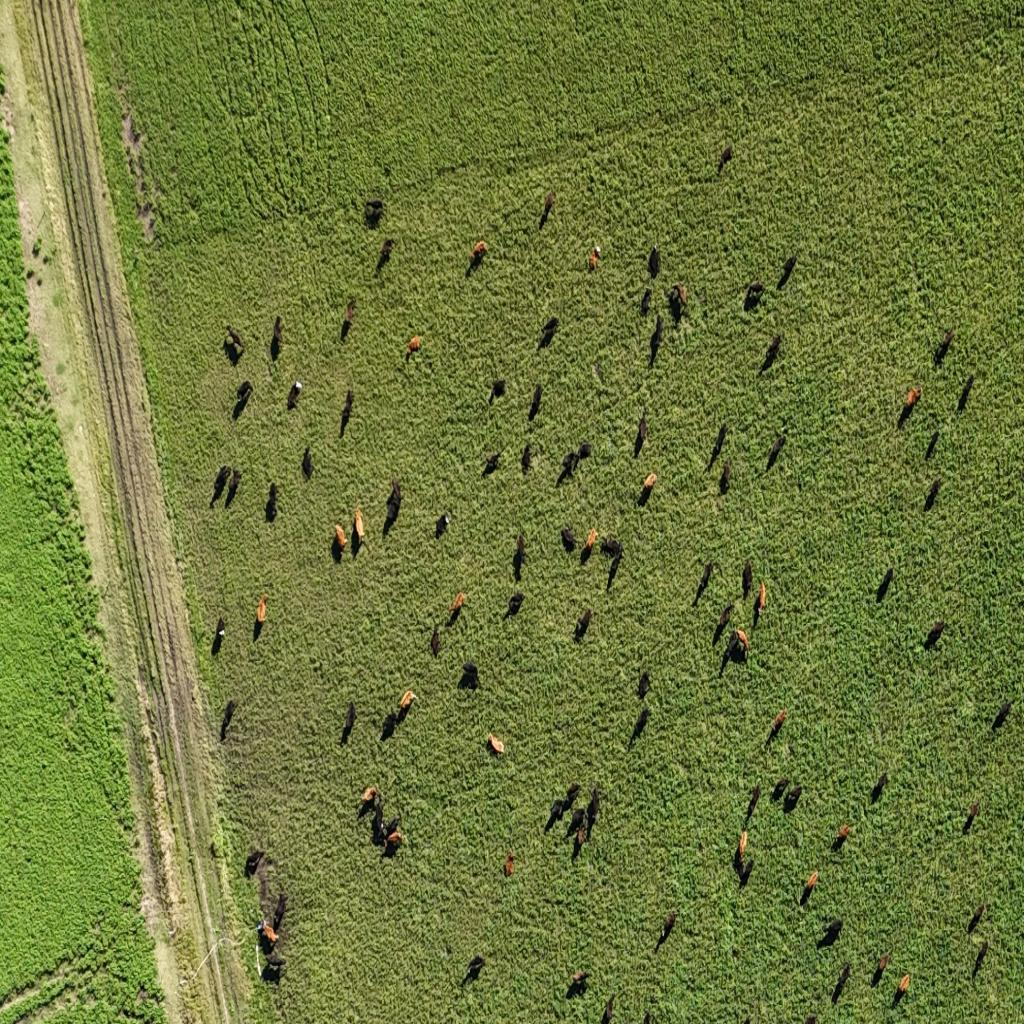cow: (384, 478, 402, 530), (714, 604, 734, 646), (708, 422, 726, 468), (261, 950, 285, 984), (566, 803, 587, 841), (727, 628, 749, 664), (270, 891, 288, 935), (832, 962, 852, 1001), (900, 386, 921, 422), (761, 334, 782, 370), (586, 784, 600, 838), (650, 315, 665, 365), (257, 917, 279, 951), (544, 799, 566, 832), (752, 579, 766, 630), (341, 700, 357, 743), (871, 950, 891, 984), (383, 813, 403, 847), (358, 785, 378, 819), (696, 561, 712, 603), (371, 805, 387, 847), (766, 434, 785, 469), (558, 451, 578, 484), (220, 699, 236, 740), (211, 465, 229, 501), (800, 870, 819, 904), (225, 325, 245, 357), (744, 281, 766, 310), (820, 917, 842, 946), (936, 327, 954, 362), (340, 388, 354, 433), (992, 700, 1012, 731), (778, 254, 796, 288), (633, 705, 651, 739), (659, 911, 677, 945), (958, 374, 974, 412), (783, 782, 803, 812), (736, 857, 754, 890), (245, 849, 266, 877), (924, 621, 945, 649), (634, 414, 648, 456), (226, 468, 241, 507), (459, 661, 479, 690), (877, 566, 894, 600), (469, 238, 487, 270), (236, 380, 254, 412), (606, 552, 622, 588), (967, 902, 985, 934), (600, 536, 622, 562), (580, 529, 597, 562), (365, 198, 385, 226), (746, 784, 762, 819), (380, 711, 398, 742), (870, 771, 888, 802), (963, 800, 980, 832), (924, 478, 940, 511), (540, 190, 555, 225), (564, 780, 582, 809), (465, 956, 485, 982), (513, 534, 525, 577), (506, 591, 525, 618), (540, 317, 559, 344), (717, 144, 733, 176), (924, 430, 940, 462), (670, 284, 686, 316), (893, 972, 910, 1002), (488, 378, 506, 406), (640, 471, 656, 502), (974, 940, 989, 973), (377, 239, 394, 268), (340, 305, 354, 340), (832, 823, 850, 850), (288, 380, 304, 410), (266, 482, 278, 522), (354, 506, 366, 546), (333, 522, 347, 556), (529, 383, 542, 419), (770, 708, 786, 737), (214, 611, 228, 644), (772, 777, 791, 801), (576, 608, 592, 636), (602, 991, 616, 1023), (561, 525, 577, 553), (719, 459, 732, 493), (742, 560, 753, 600), (483, 450, 501, 474), (569, 968, 587, 992), (648, 244, 660, 280), (302, 446, 314, 481), (572, 825, 585, 857), (400, 688, 418, 711), (638, 671, 652, 700), (521, 442, 534, 473), (436, 512, 451, 538), (257, 592, 269, 624), (575, 442, 592, 464), (640, 288, 652, 318), (587, 244, 601, 268), (489, 734, 505, 754), (431, 626, 441, 658), (274, 314, 284, 342), (451, 592, 465, 612), (407, 335, 421, 353), (593, 361, 603, 385), (346, 298, 356, 320), (505, 852, 514, 876), (368, 786, 380, 800), (210, 842, 218, 860), (804, 1014, 818, 1024), (642, 1010, 652, 1024), (33, 240, 41, 257), (295, 381, 304, 394)
